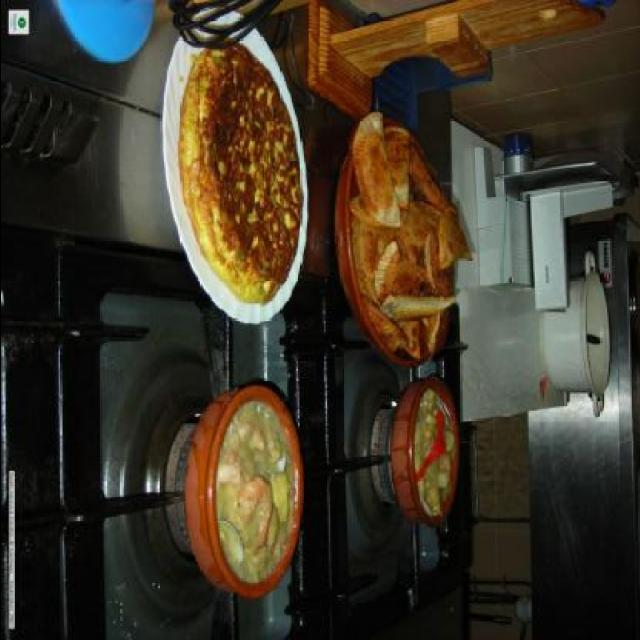Pizza: (168, 40, 310, 318)
